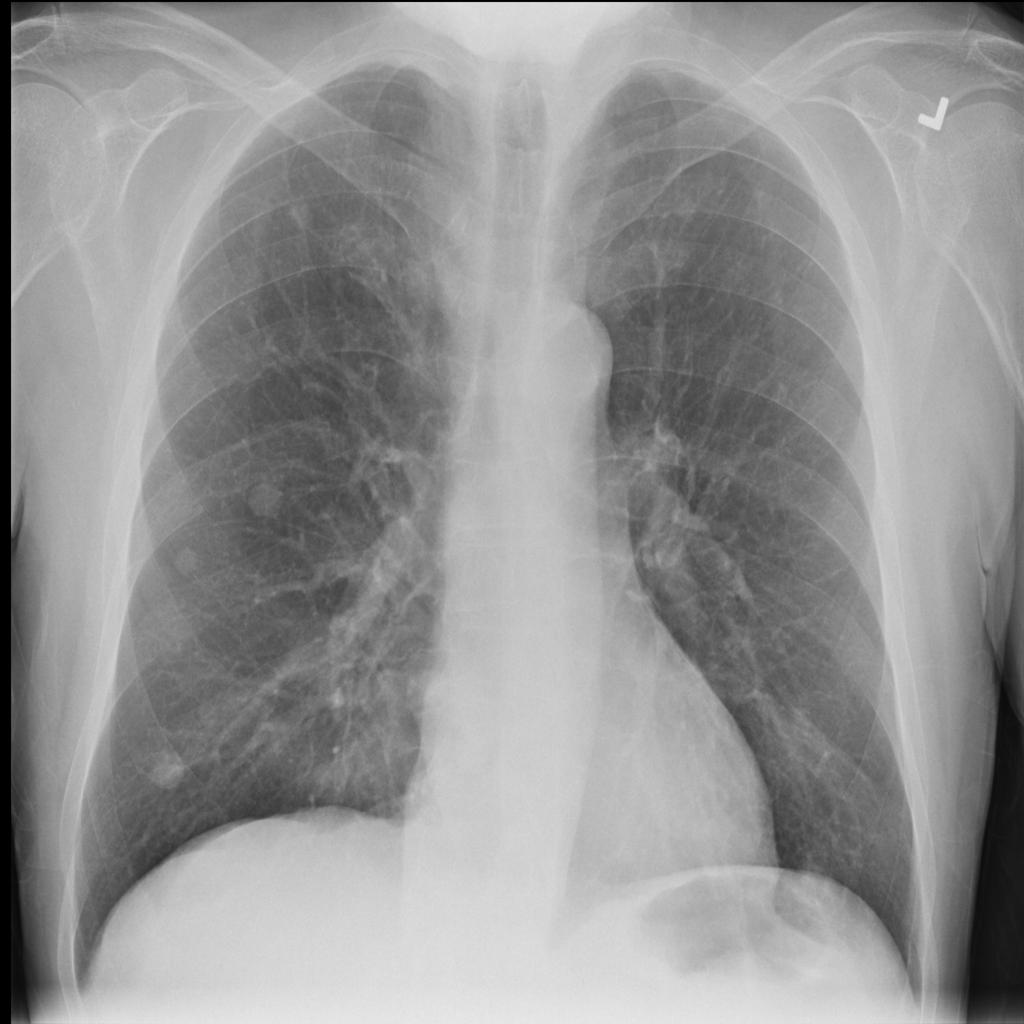nodule: (132, 732, 205, 803), (241, 471, 292, 527), (164, 534, 213, 585), (278, 186, 325, 239)
